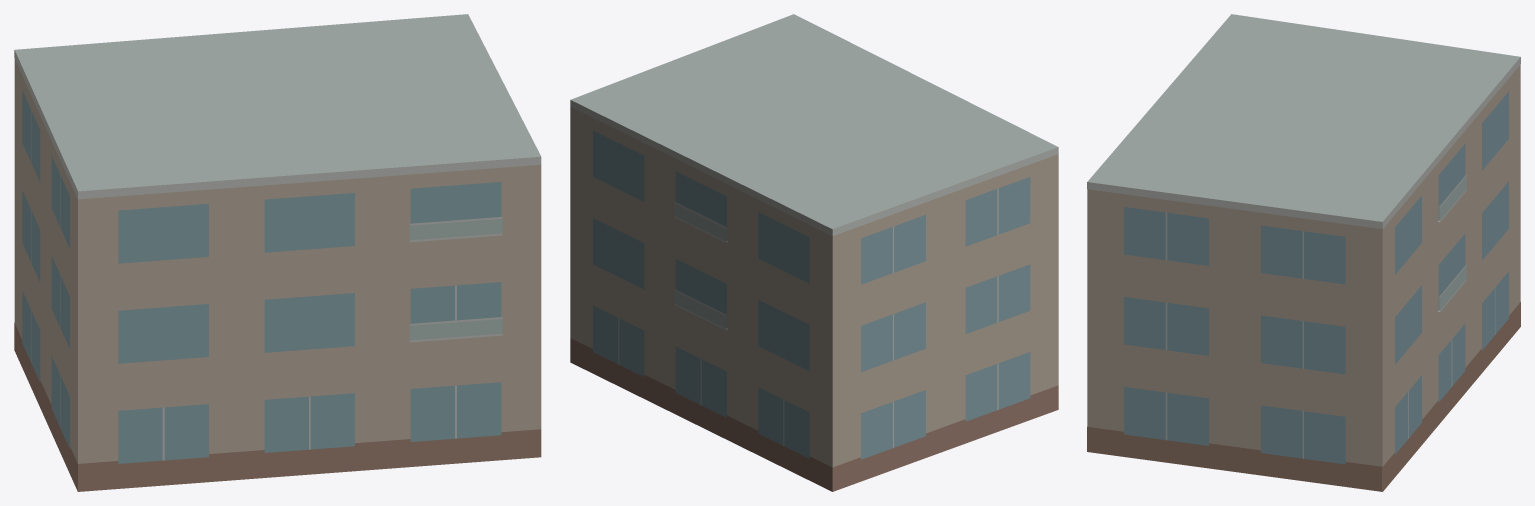
Rendered from survey-upis-33014989.glb.
3 views of the same model, side by side, from view 1: azimuth 30°, elevation 25°; view 2: azimuth 150°, elevation 25°; view 3: azimuth 270°, elevation 25° (orthographic). The views are drawn at different scales.
Visible parts, largest first — view 1: survey-upis-33014989.tmp; view 2: survey-upis-33014989.tmp; view 3: survey-upis-33014989.tmp.
Part boxes in pixels (box(x1,y1,x2,y2)): survey-upis-33014989.tmp: box(14, 14, 541, 491); survey-upis-33014989.tmp: box(570, 14, 1058, 491); survey-upis-33014989.tmp: box(1087, 14, 1520, 491).
Bounding box in the file's own units: 15.13 × 9.15 × 13.33.
